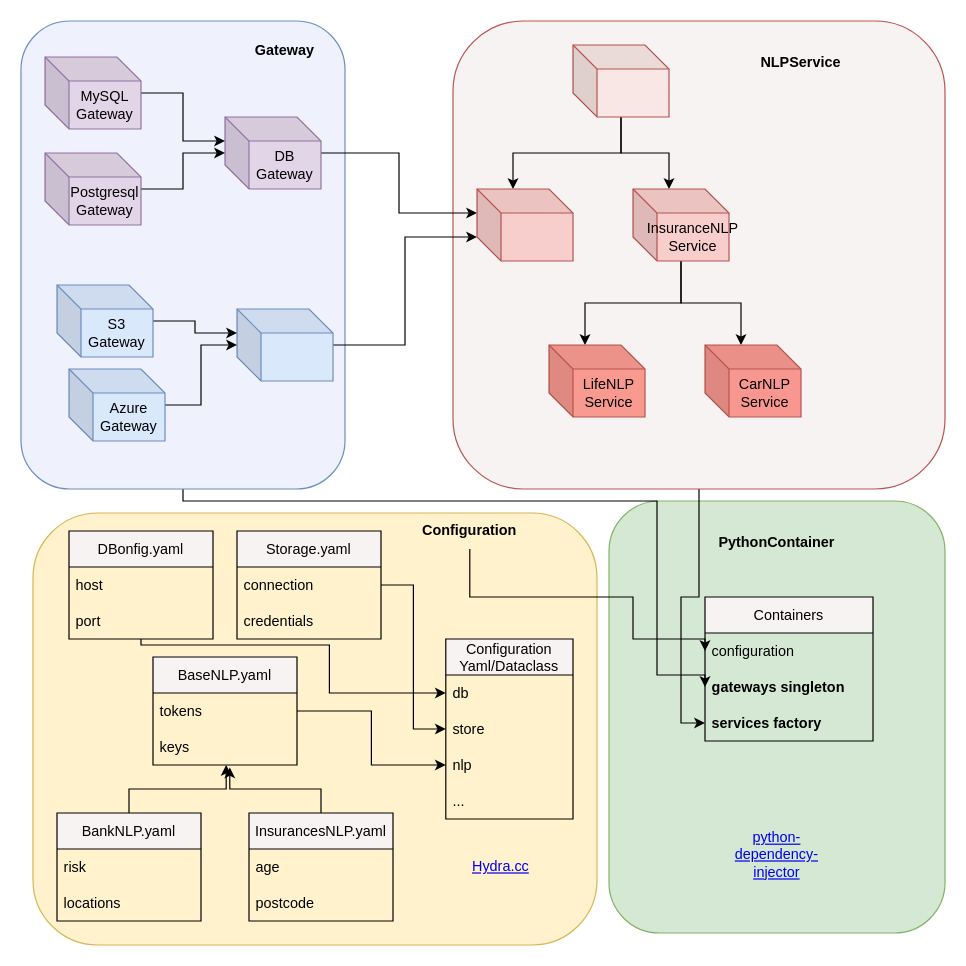
Some shapes in this 966 by 966 pixel diagram are drawn without their labels. The shapes that lost their labels are listed below. From the top down, each one's centre as x and y in pixels, then its label:
At point (620, 80): "Abstract NLP Service".
At point (524, 224): "BankNLP Service".
At point (284, 344): "Storage Gateway".
